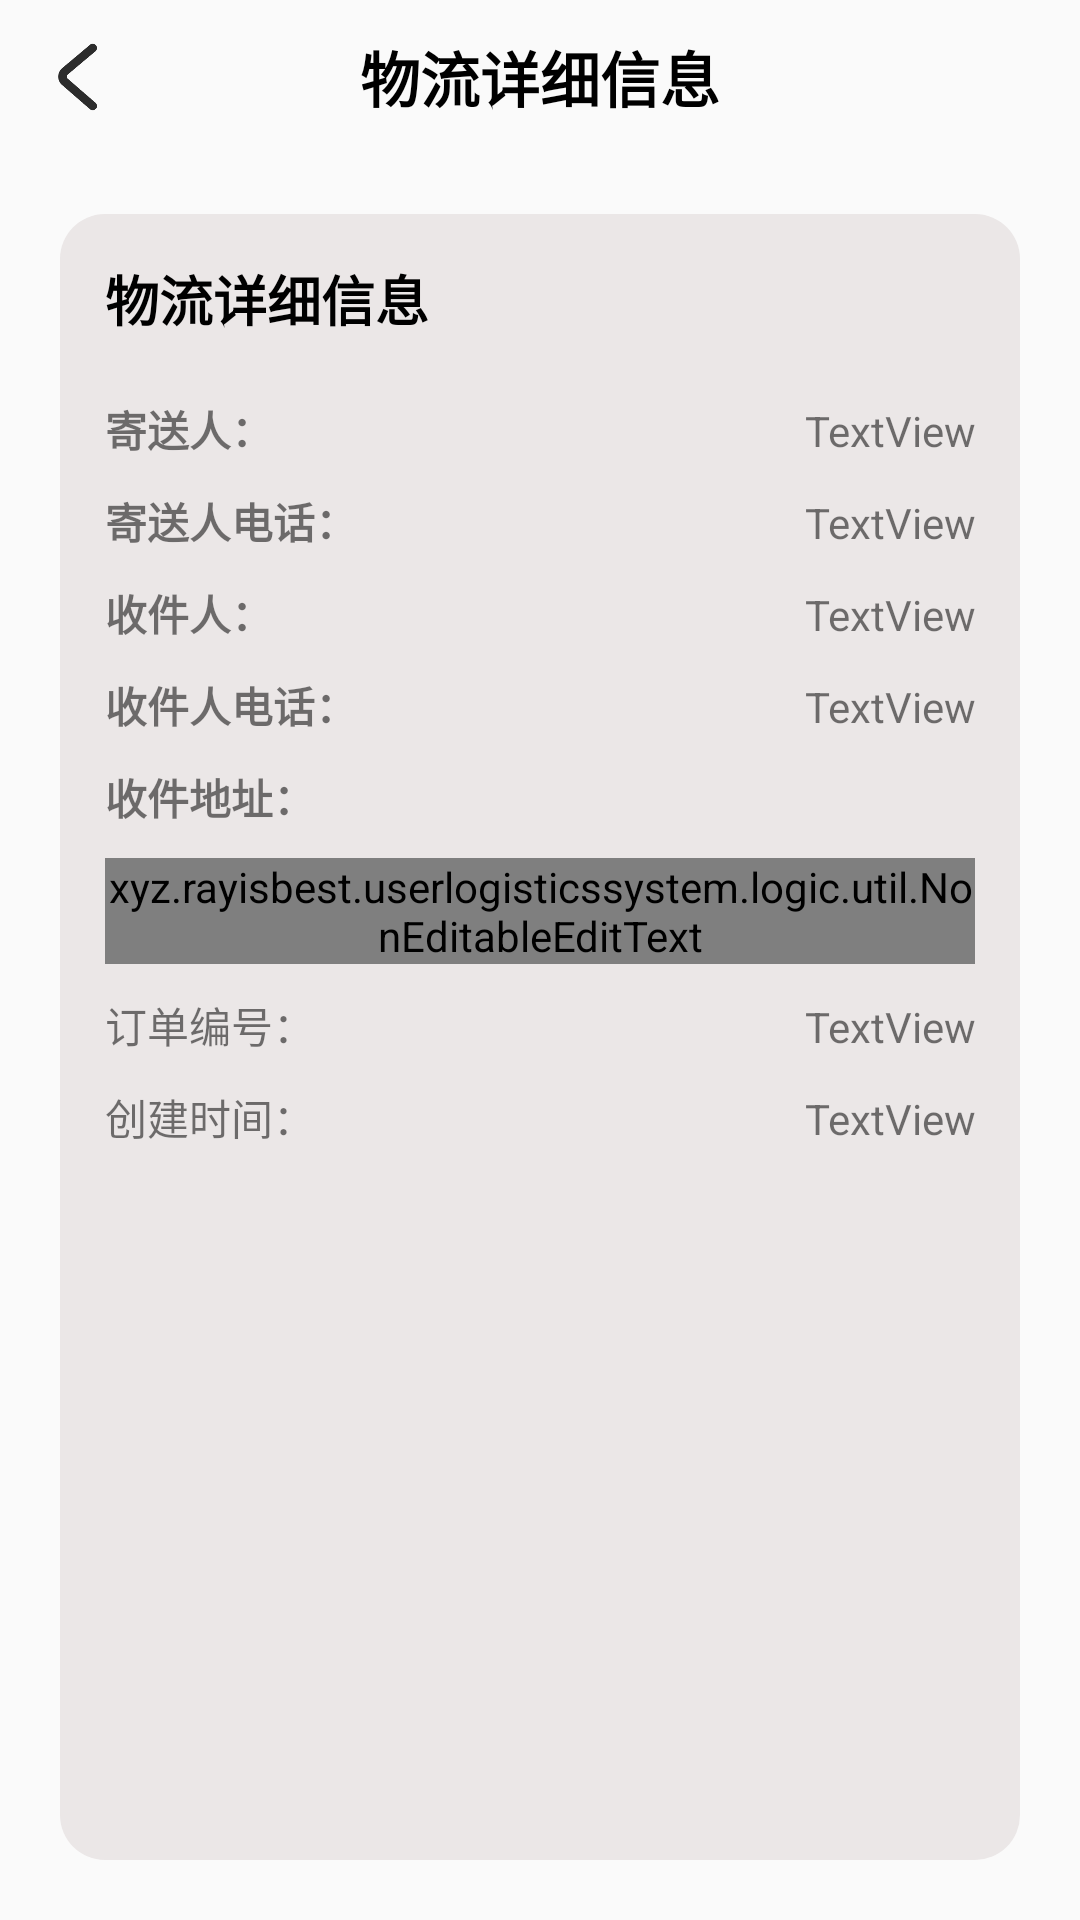

Point at icon controls on the screen. Image size 1080 x 1920, points as [x,y].
left arrow: [77,77]
